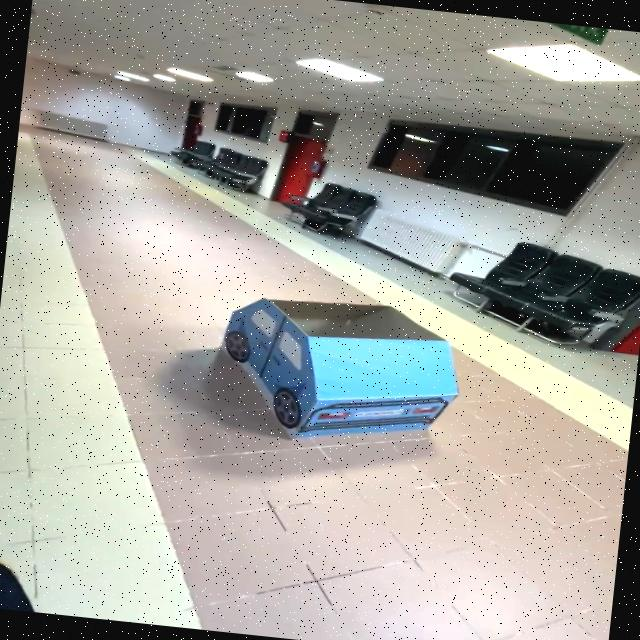blue_car: (168, 271, 488, 477)
